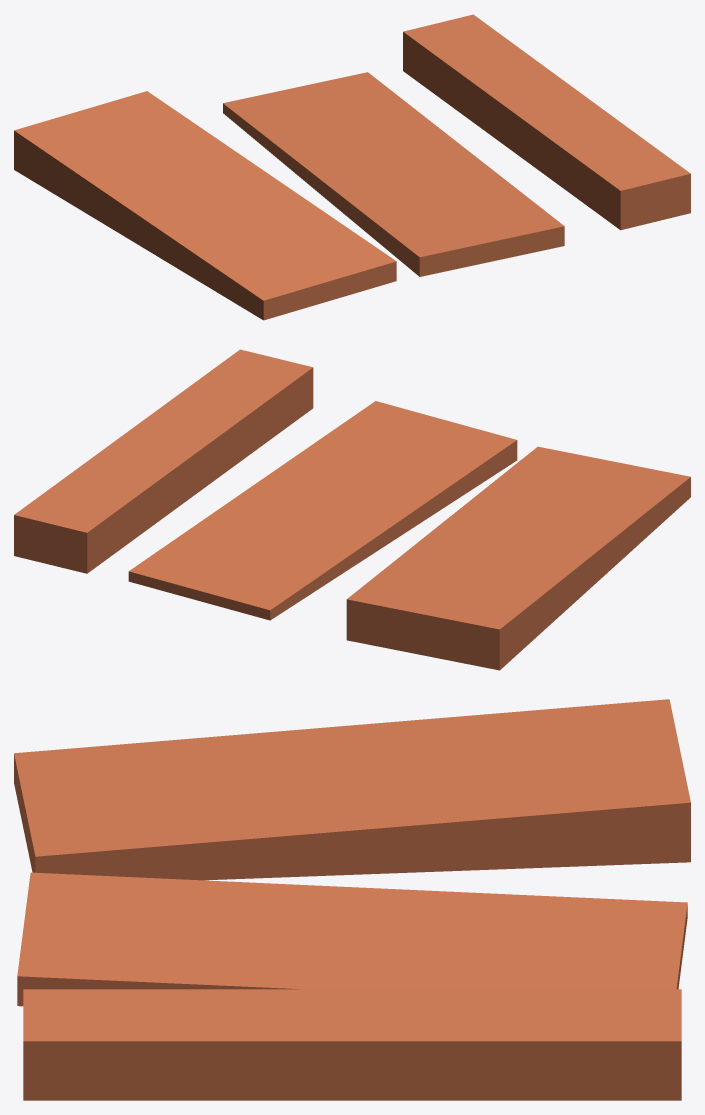
Rendered from path_woodEnd.dae.
3 renders of one model, top to bottom at view 1: azimuth 30°, elevation 25°; view 2: azimuth 150°, elevation 25°; view 3: azimuth 270°, elevation 25°, orthographic. The views are drawn at different scales.
Parts seen in each view (by area): view 1: path_woodEnd; view 2: path_woodEnd; view 3: path_woodEnd.
Part boxes in pixels (x1=…): path_woodEnd: x1=14, y1=14, x2=690, y2=320; path_woodEnd: x1=14, y1=349, x2=690, y2=670; path_woodEnd: x1=14, y1=699, x2=690, y2=1100.
Bounding box in the file's own units: 0.6148 × 0.05 × 0.5144.
